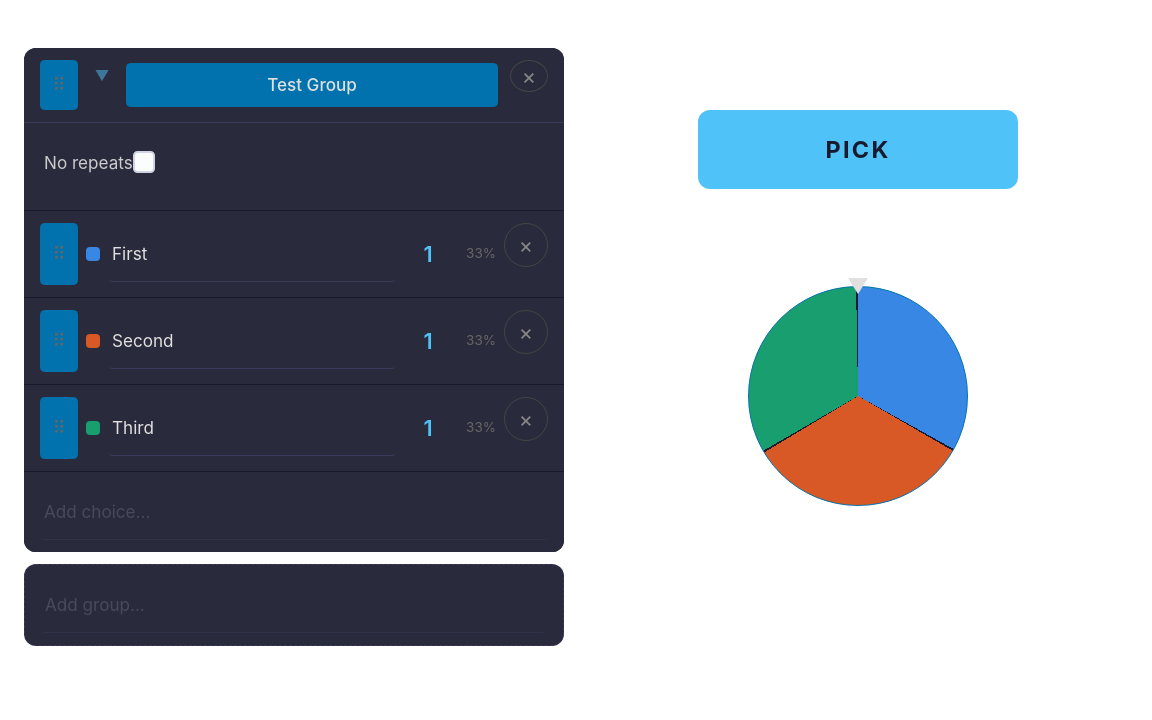
WeightedChoices grouped structure › Spinner › marks the swatch of a drawn choice as off the wheel in No repeats mode
The image size is (1152, 720).
Click the checkbox labelled "No repeats": (144, 162) [133,151,155,173]
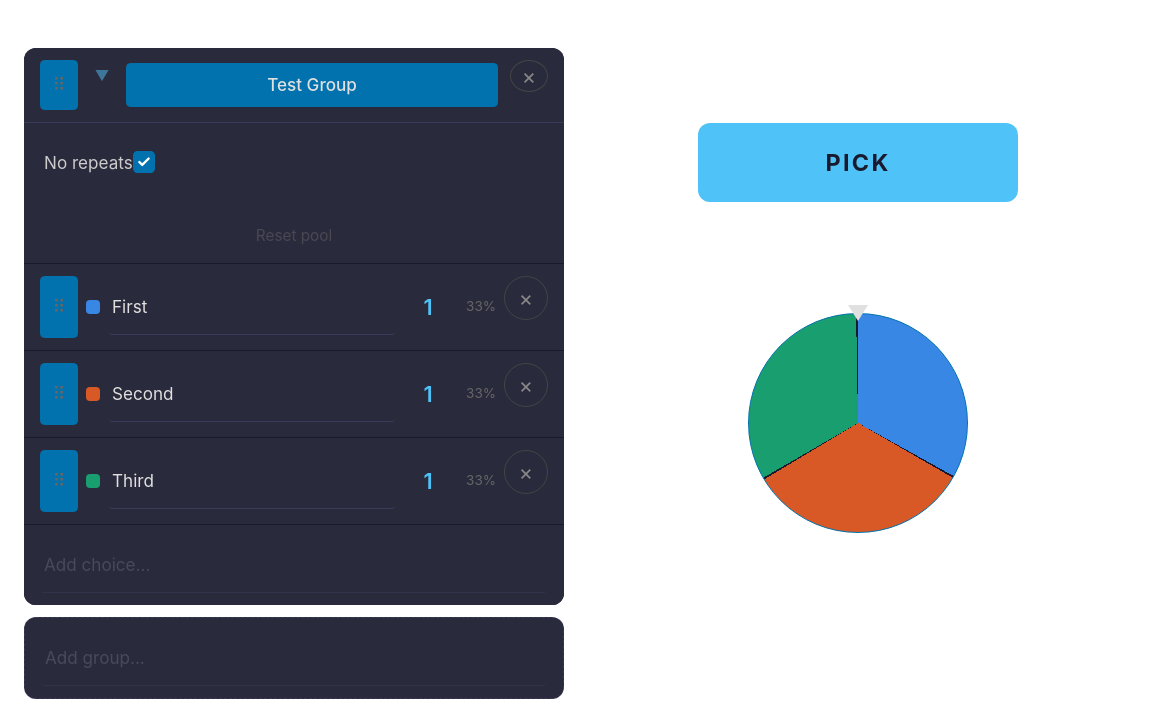
Click the button "PICK": (858, 163) [698,123,1018,202]
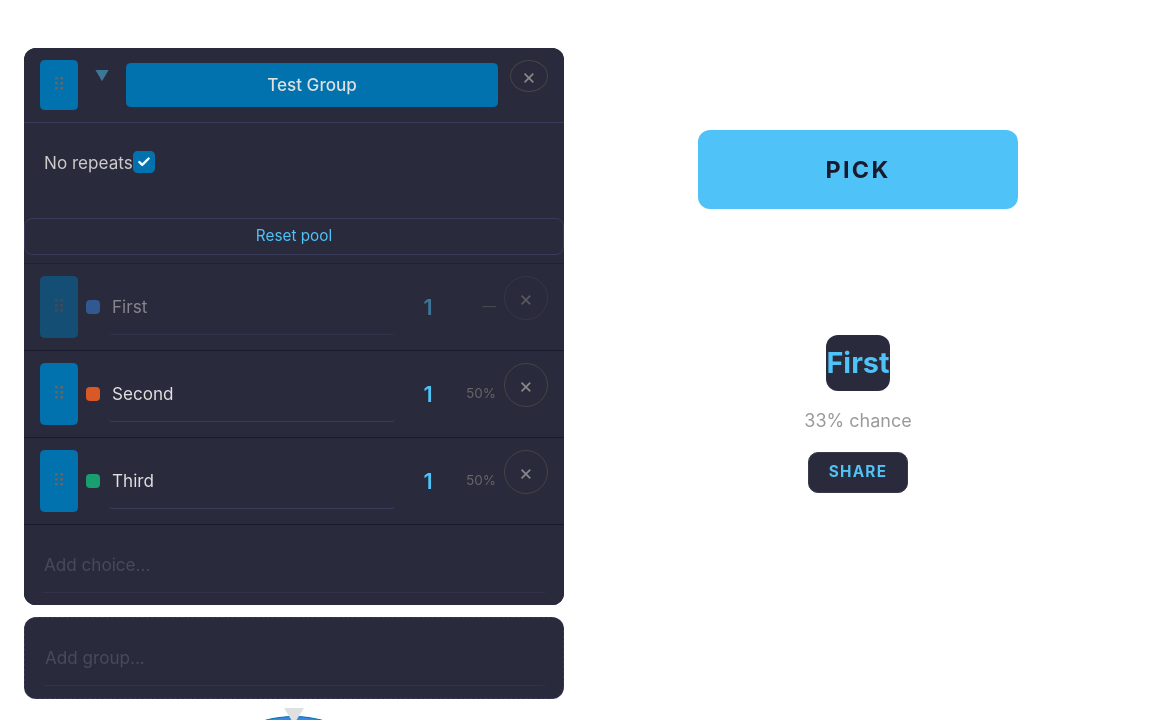
expect the text "33% chance" is shown: met, box [804,410,912,431]
